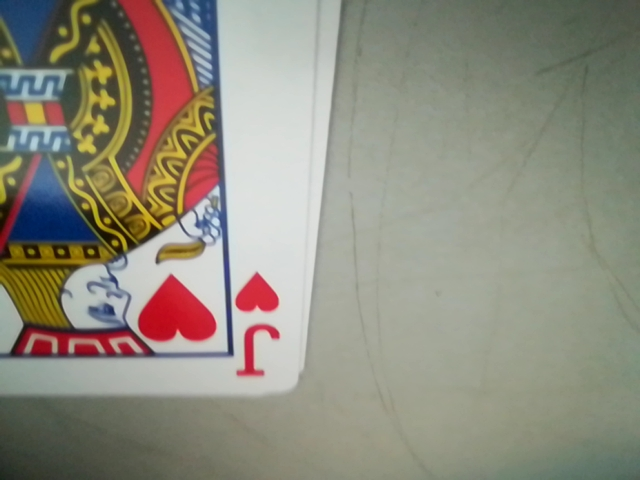hx j: (228, 269, 292, 383)
